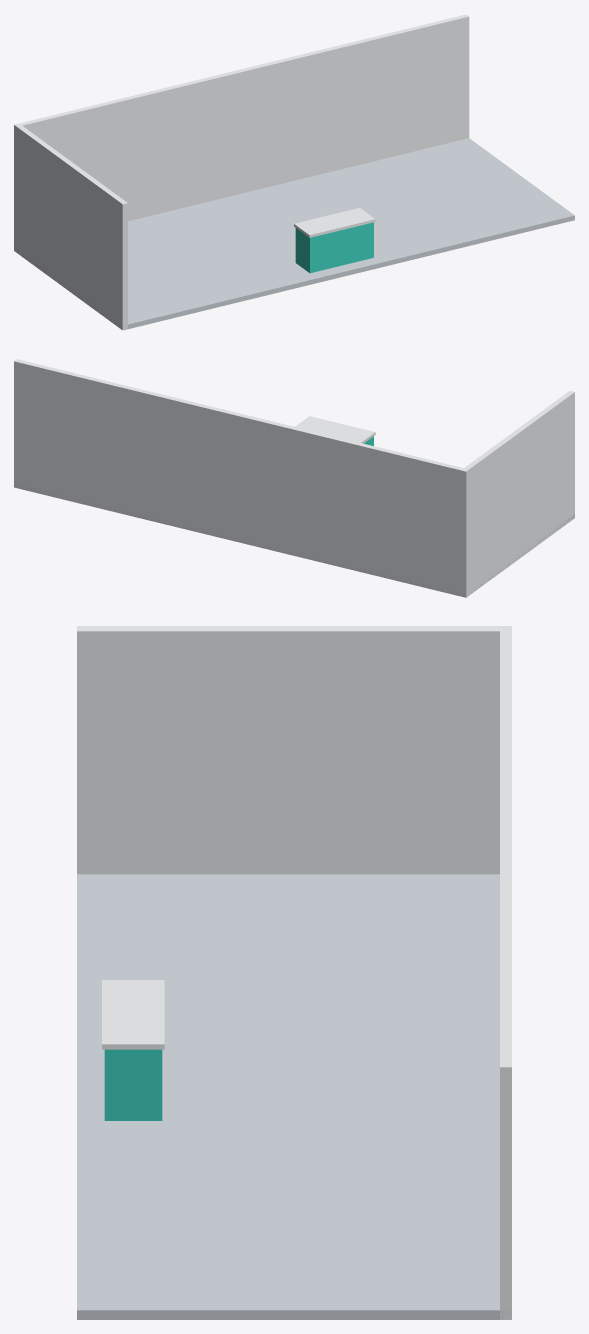
3 views of the same model, one above another, from view 1: azimuth 30°, elevation 25°; view 2: azimuth 150°, elevation 25°; view 3: azimuth 270°, elevation 25° (orthographic). The views are drawn at different scales.
Visible parts, largest first — view 1: Exhibition Booth Concept; view 2: Exhibition Booth Concept; view 3: Exhibition Booth Concept.
Part boxes in pixels (x1=…): Exhibition Booth Concept: x1=14, y1=14, x2=574, y2=330; Exhibition Booth Concept: x1=14, y1=359, x2=574, y2=597; Exhibition Booth Concept: x1=77, y1=626, x2=511, y2=1319.
Size of the model in its own units: 12 by 3.2 by 5.
